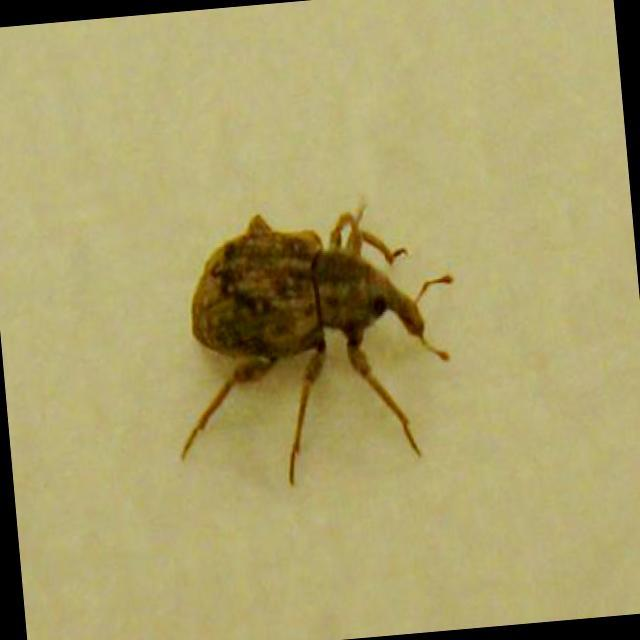ricebug: (183, 206, 451, 483)
